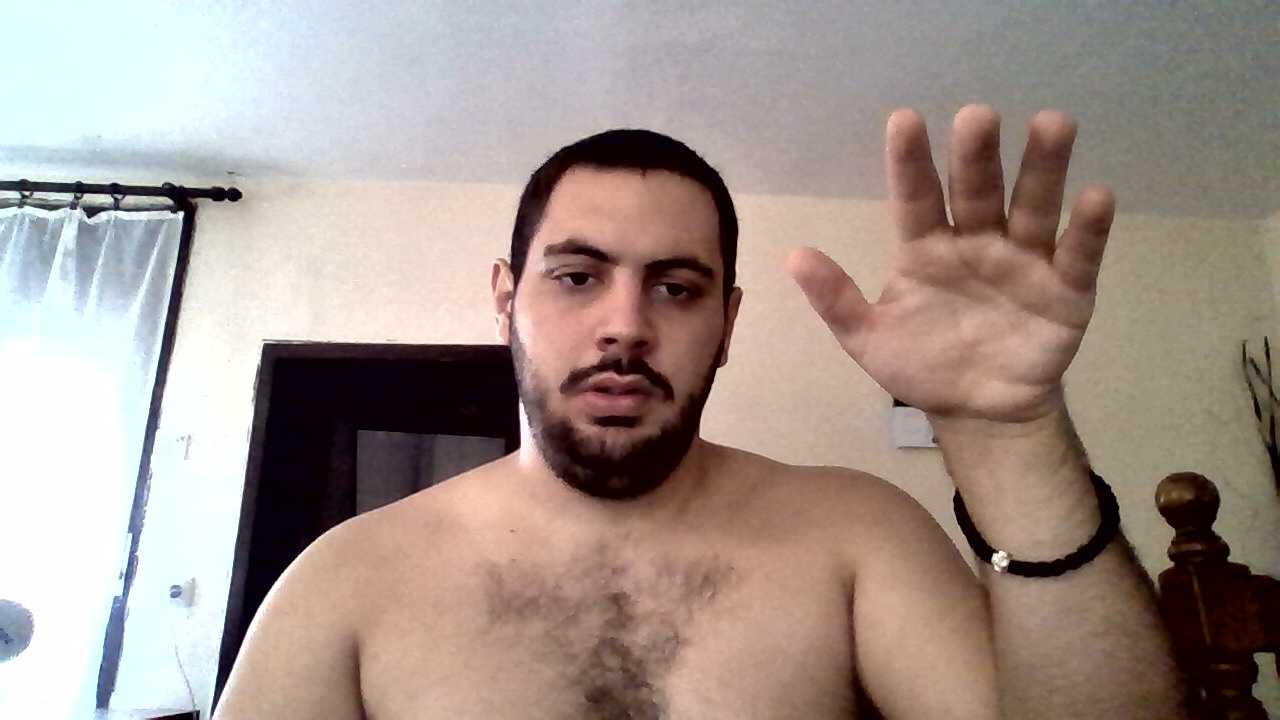palm: (787, 104, 1117, 425)
